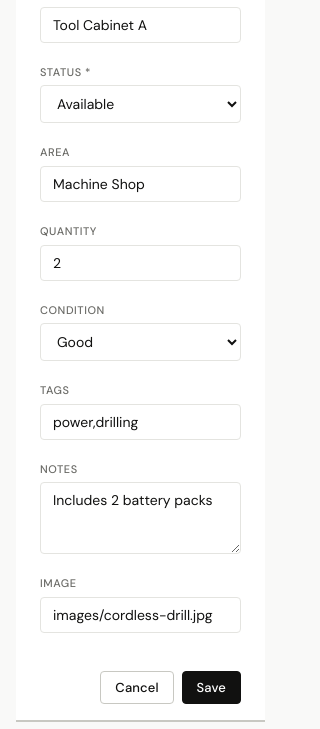
Test: ExpandedPanel — edit mode › Save with an empty required field shows a validation error and does not submit
(page scrolled)
Click the button "Save" at x=211, y=687, box [182,671,241,704]
(page scrolled)
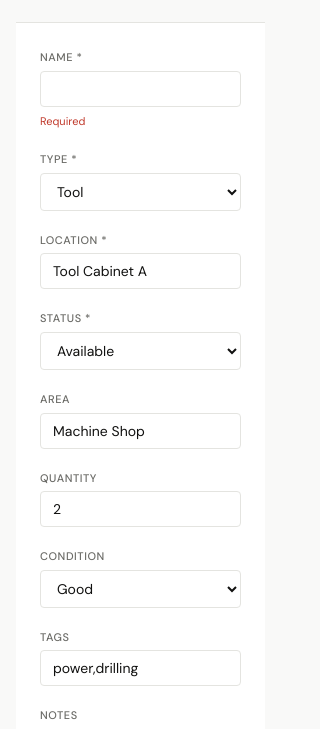
Expected: the text "Required" is shown, [40,114,85,128]
